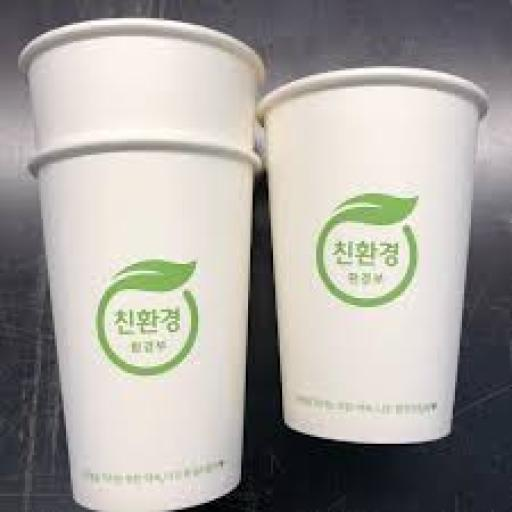paper: (18, 18, 264, 510), (257, 66, 485, 441)
